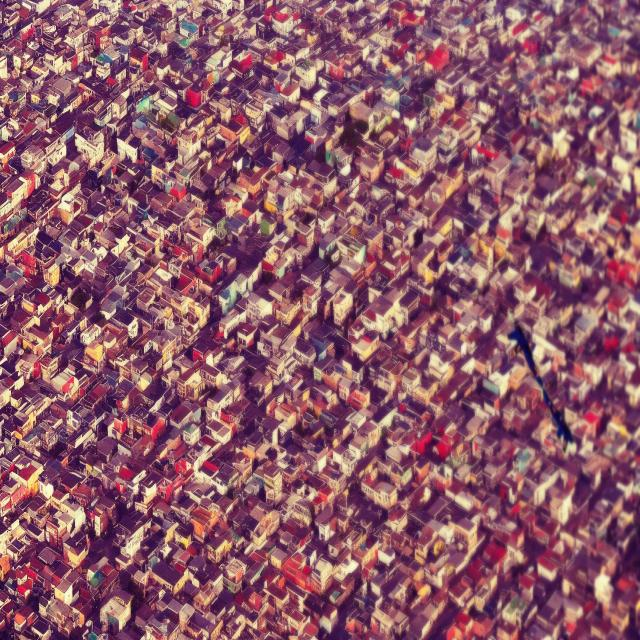airplane: (507, 322, 574, 451)
